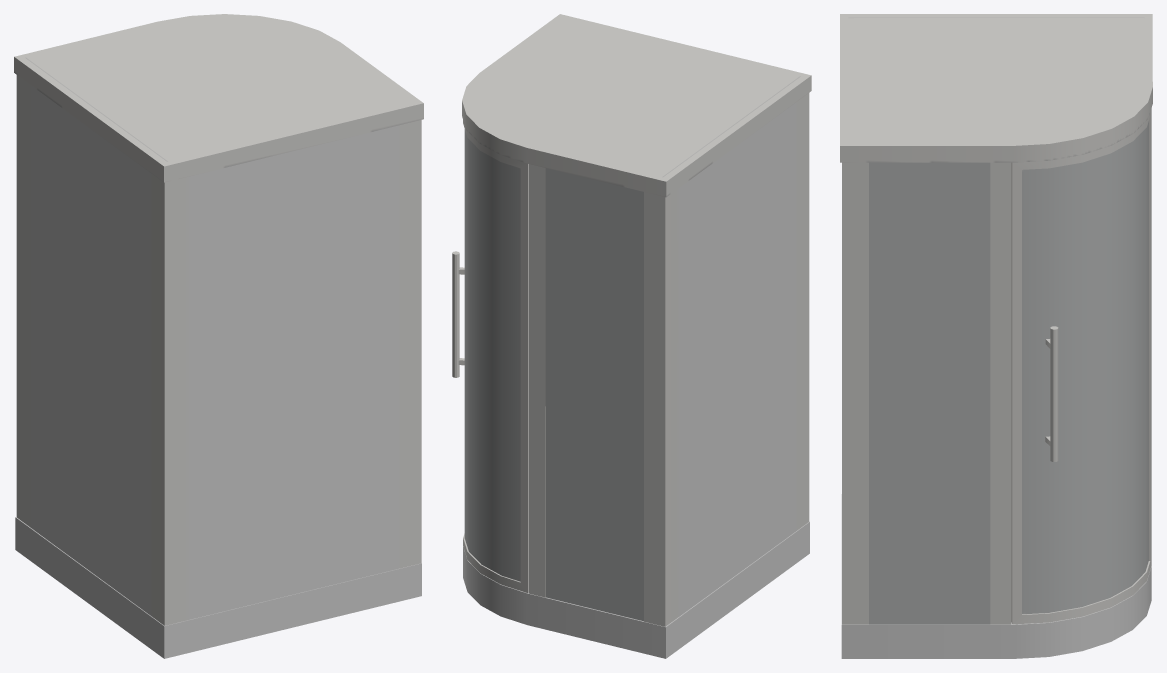
The model's file is shower.glb.
3 views of the same model, side by side, from view 1: azimuth 30°, elevation 25°; view 2: azimuth 150°, elevation 25°; view 3: azimuth 270°, elevation 25° (orthographic). The views are drawn at different scales.
Parts seen in each view (by area): view 1: Cube.031; view 2: Cube.031; view 3: Cube.031.
Part boxes in pixels (left/top/right/bottom): Cube.031: left=14, top=14, right=423, bottom=658; Cube.031: left=452, top=14, right=811, bottom=658; Cube.031: left=840, top=14, right=1152, bottom=658.
Size of the model in its own units: 1.11 by 1.95 by 1.08.
Materials: 1 (1 with a texture image).
